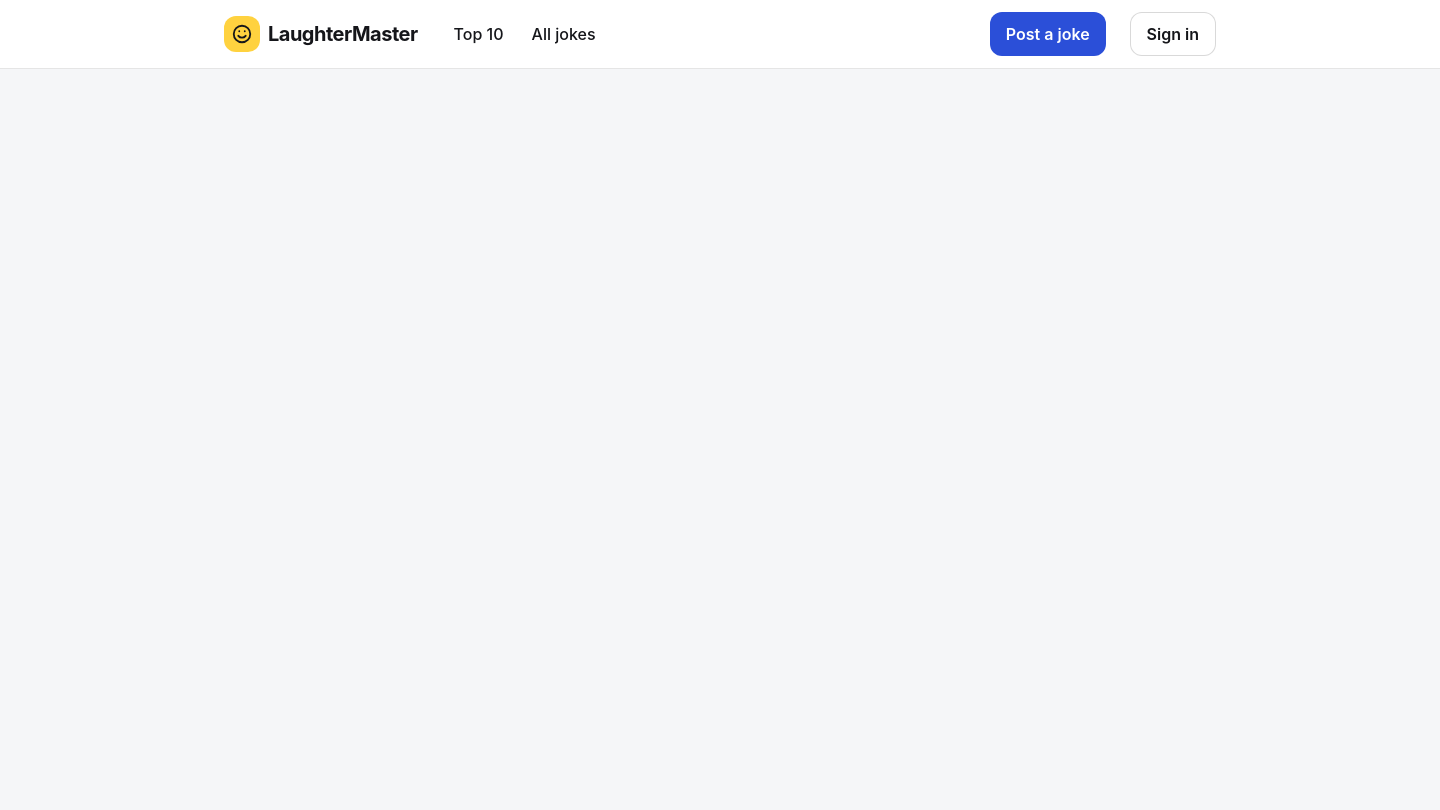
it: SiteHeader › logged out › Post a joke opens the dialog titled Sign in to post a joke
The width and height of the screenshot is (1440, 810).
Click the button "Post a joke". click: (1048, 34)
box: [990,12,1106,56]
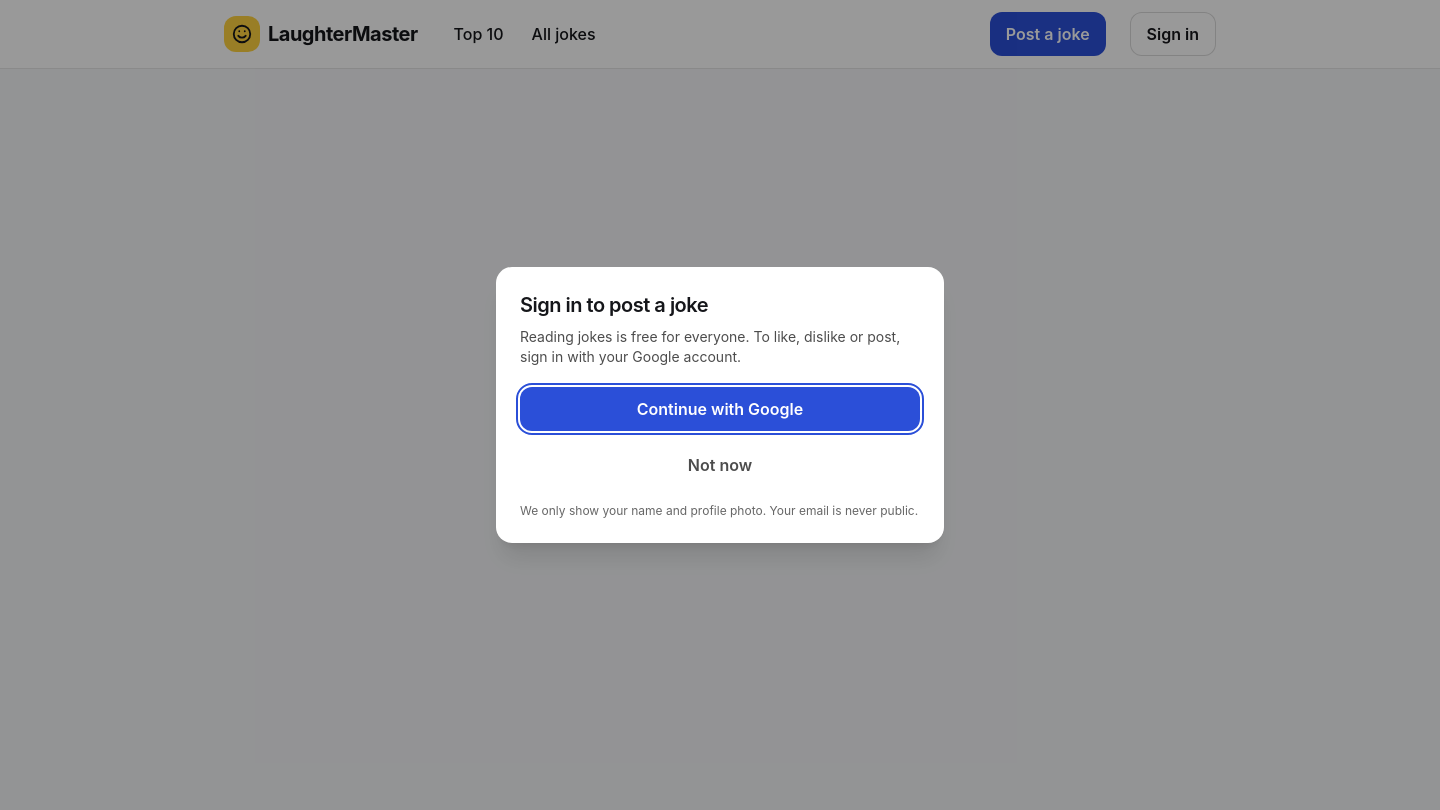
Expected: the dialog "Sign in to post a joke" is shown, [496,267,944,543]
